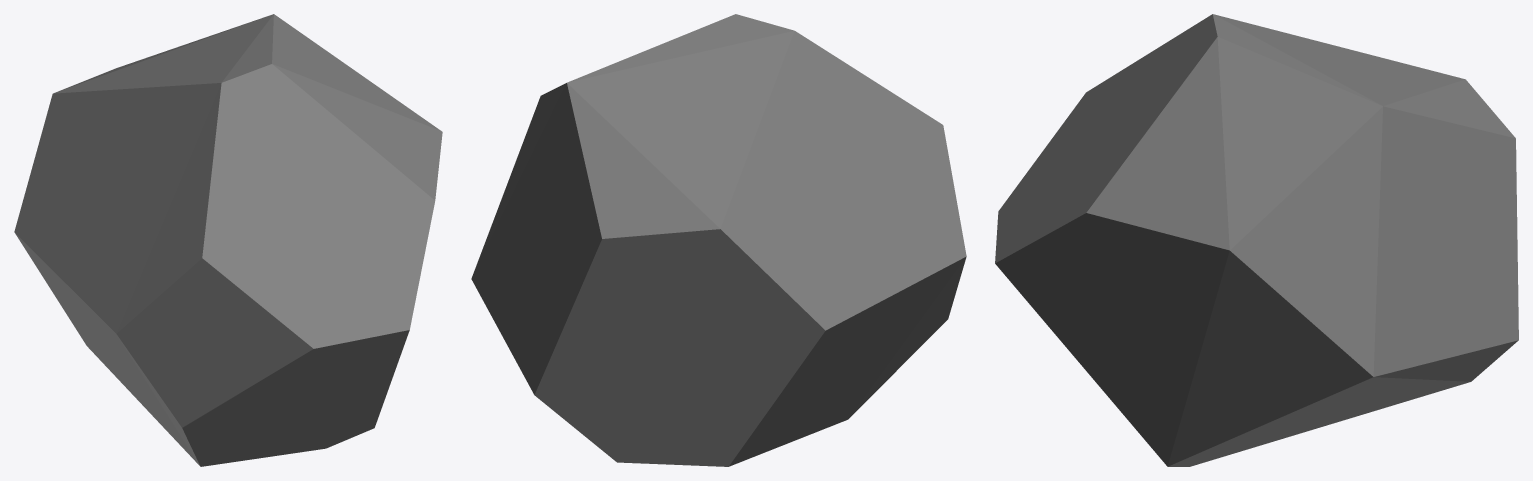
The model's file is Stone_02.fbx.
3 views of the same model, side by side, from view 1: azimuth 30°, elevation 25°; view 2: azimuth 150°, elevation 25°; view 3: azimuth 270°, elevation 25° (orthographic). The views are drawn at different scales.
Visible parts, largest first — view 1: Stone_02; view 2: Stone_02; view 3: Stone_02.
Part boxes in pixels (bbox=[...]): Stone_02: bbox=[14, 14, 442, 466]; Stone_02: bbox=[471, 14, 966, 466]; Stone_02: bbox=[995, 14, 1518, 466].
Size of the model in its own units: 262 by 267 by 310.
